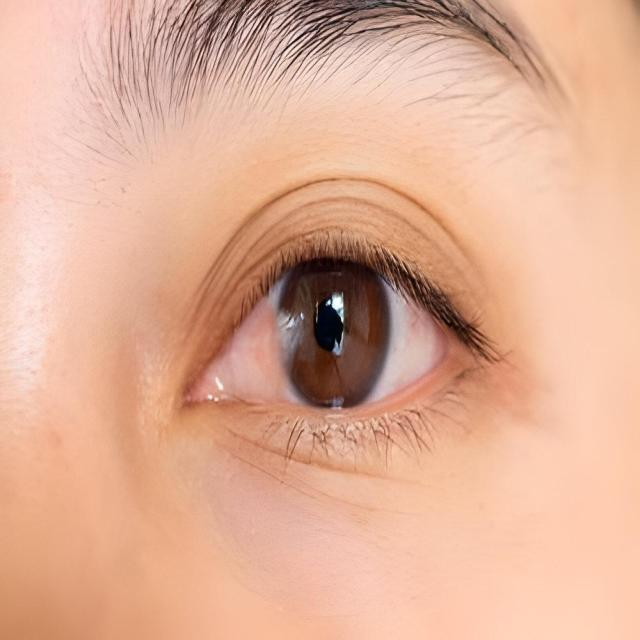Pterygium: (211, 282, 326, 400)
